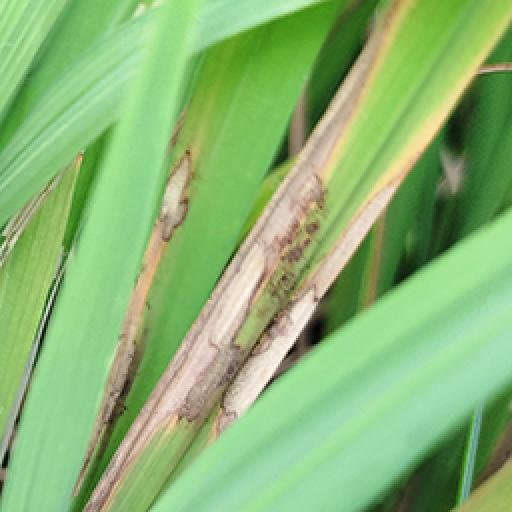Leaf Blast Disease: (158, 4, 416, 418), (56, 250, 160, 500), (122, 130, 214, 254)
